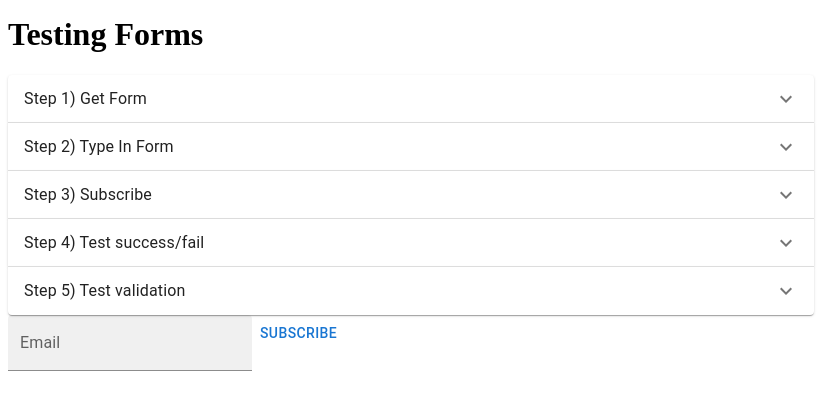
form tests › Test subscribe form
The image size is (832, 420).
Expected: the heading "Testing Forms" is shown, [8, 16, 203, 52]
In the field labelled "Email": [130, 343] box [8, 315, 252, 371], type "ryan@coderyan.com"
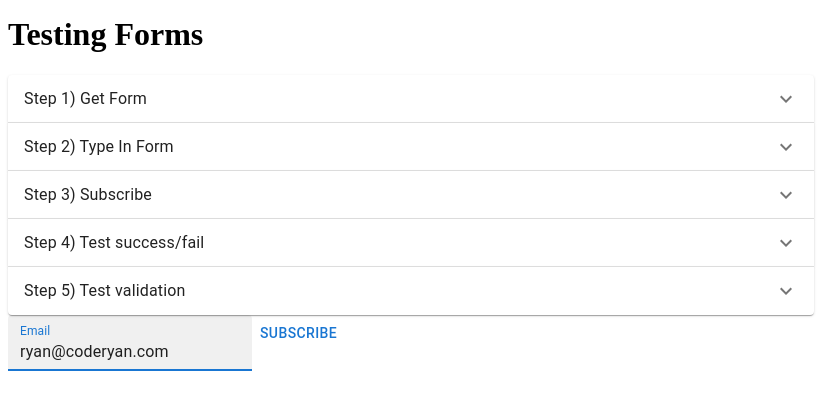
Click the button with test id "subscribe-button": [299, 334] box [252, 315, 345, 352]
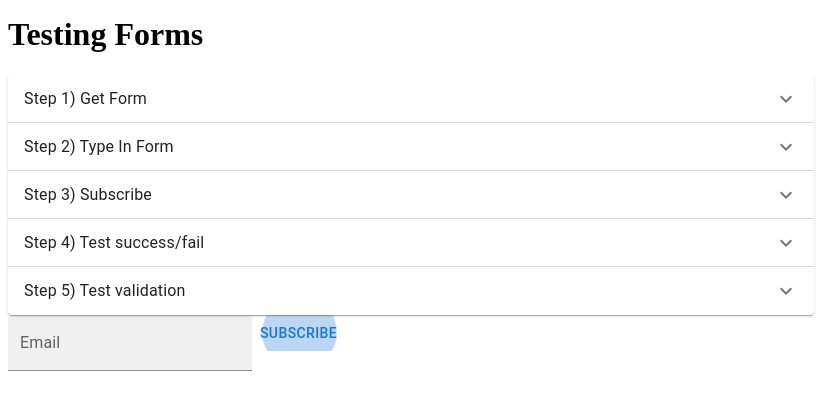
In the field labelled "Email": [130, 343] box [8, 315, 252, 371], type "ryan@coderyan.io"
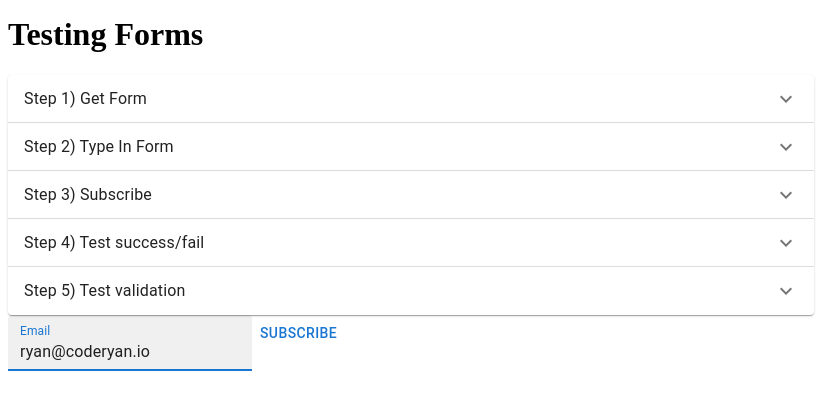
Click the button with test id "subscribe-button": [299, 334] box [252, 315, 345, 352]
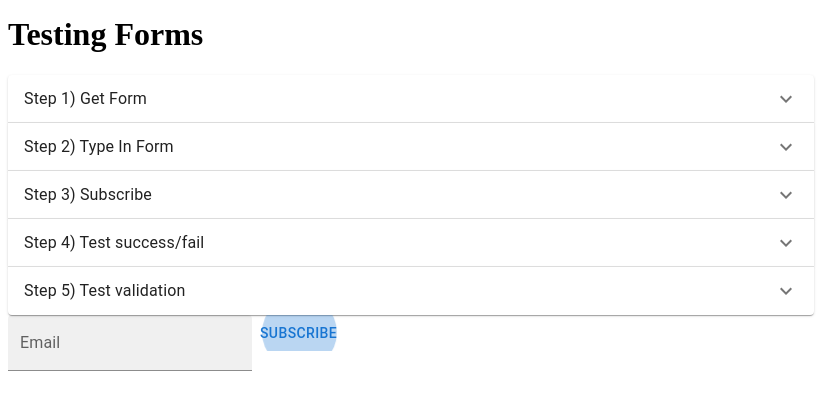
Expected: the text "fail!" is not shown
Click the button with test id "subscribe-button": [299, 334] box [252, 315, 345, 352]
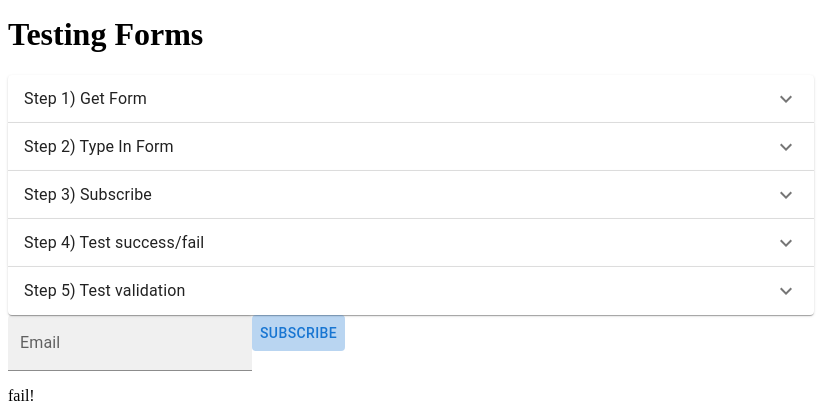
Expected: the text "fail!" is shown, [8, 387, 35, 404]
